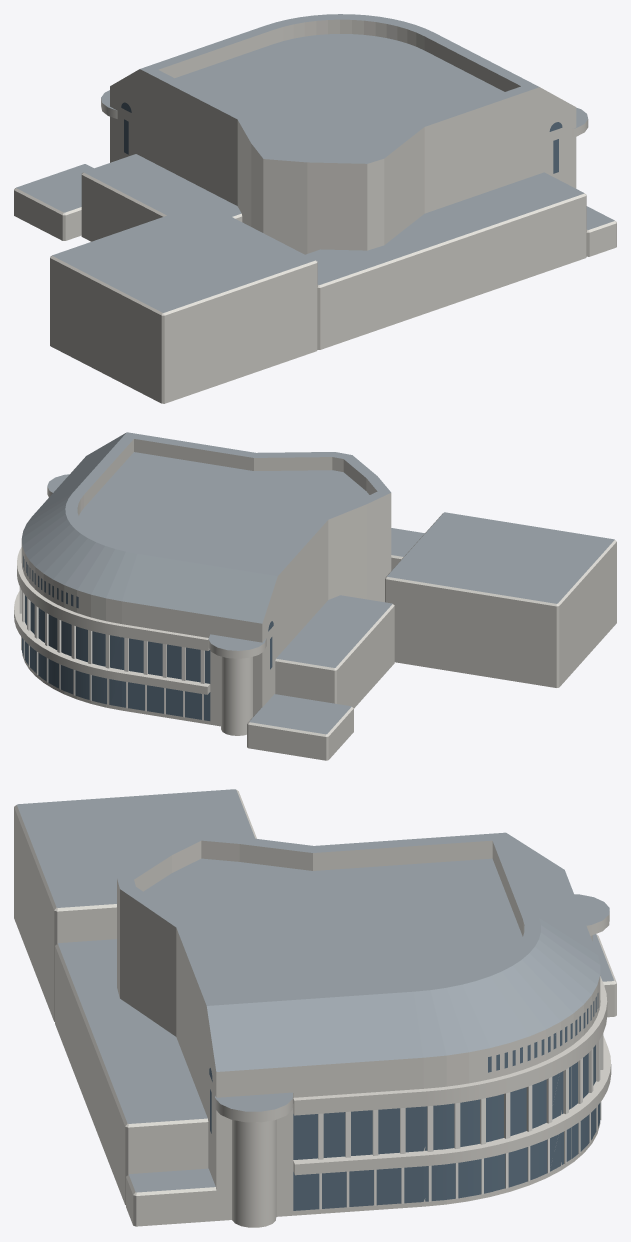
Rendered from detail.glb.
3 views of the same model, one above another, from view 1: azimuth 30°, elevation 25°; view 2: azimuth 150°, elevation 25°; view 3: azimuth 270°, elevation 25° (orthographic). The views are drawn at different scales.
Visible parts, largest first — view 1: louise-m-davies-symphony-hall; view 2: louise-m-davies-symphony-hall; view 3: louise-m-davies-symphony-hall.
Boxes of the visible parts, x1=… form: louise-m-davies-symphony-hall: x1=14, y1=14, x2=616, y2=403; louise-m-davies-symphony-hall: x1=14, y1=432, x2=616, y2=760; louise-m-davies-symphony-hall: x1=14, y1=789, x2=616, y2=1227.
Bounding box in the file's own units: 119 × 31.8 × 91.34.
